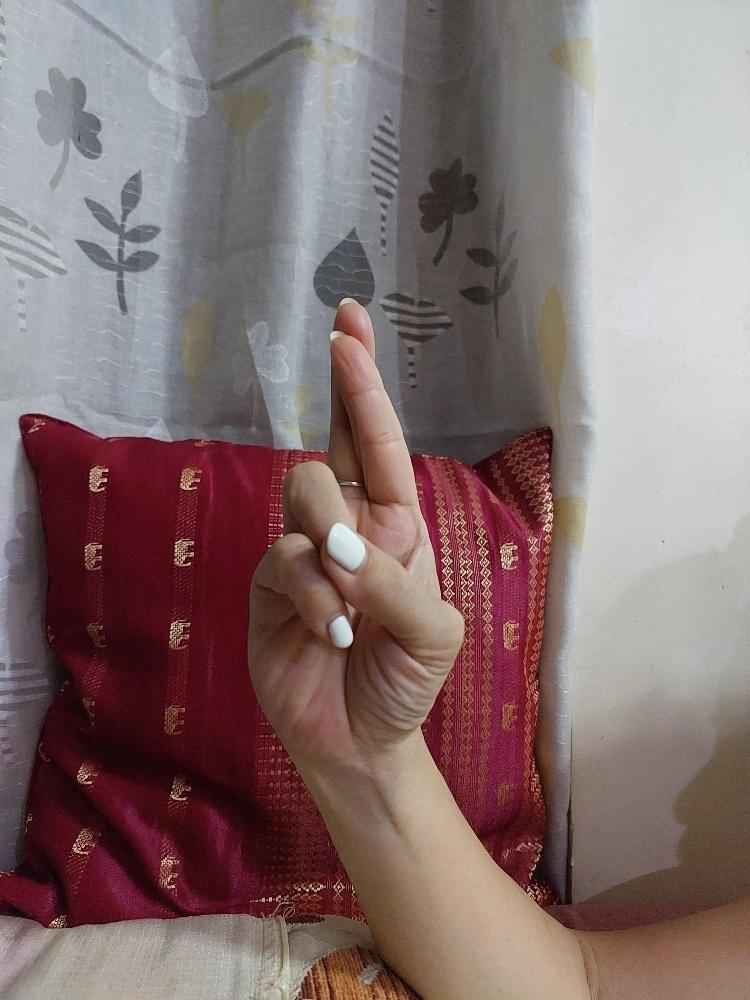r: (243, 291, 469, 764)
